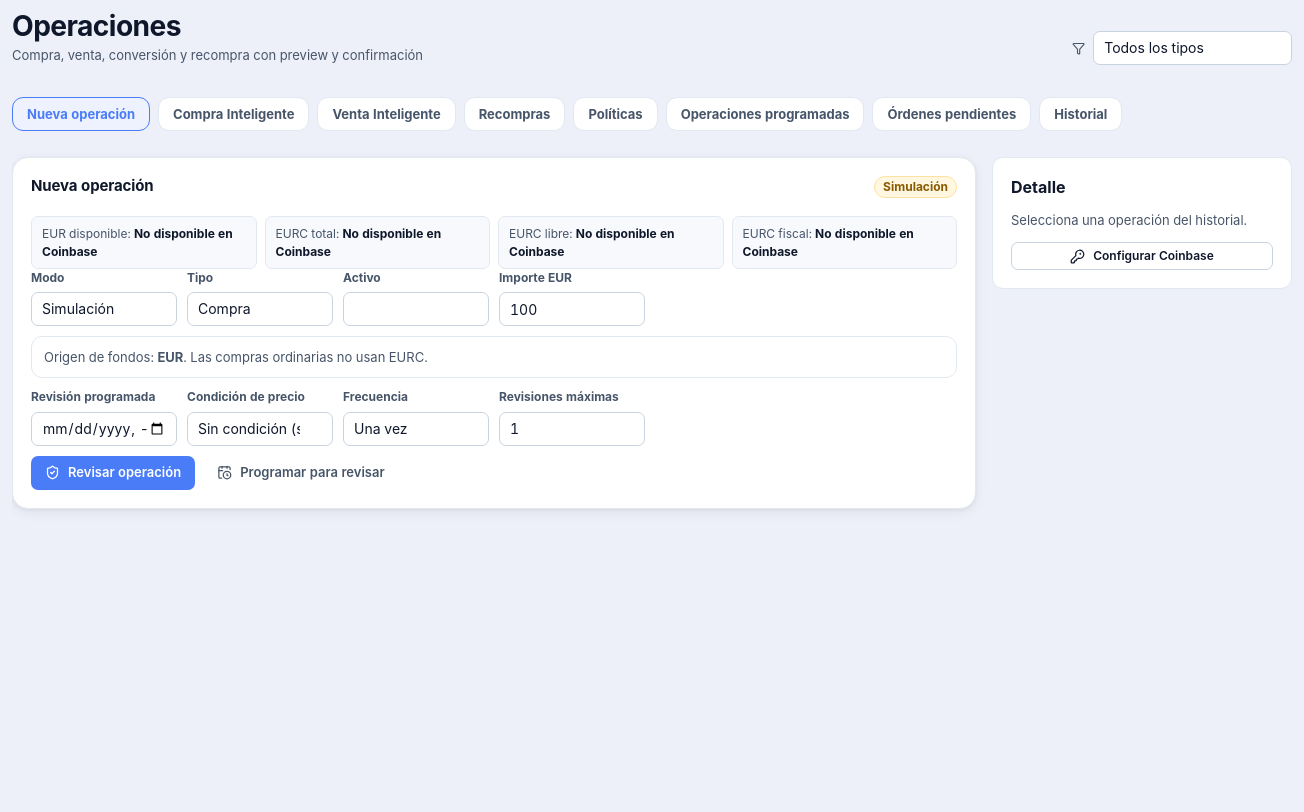
Test case: Operaciones UI › solo muestra operaciones sincronizadas desde Coinbase y no permite editarlas
Click the button "Historial" at (1081, 114), box 1039,97 -> 1122,131
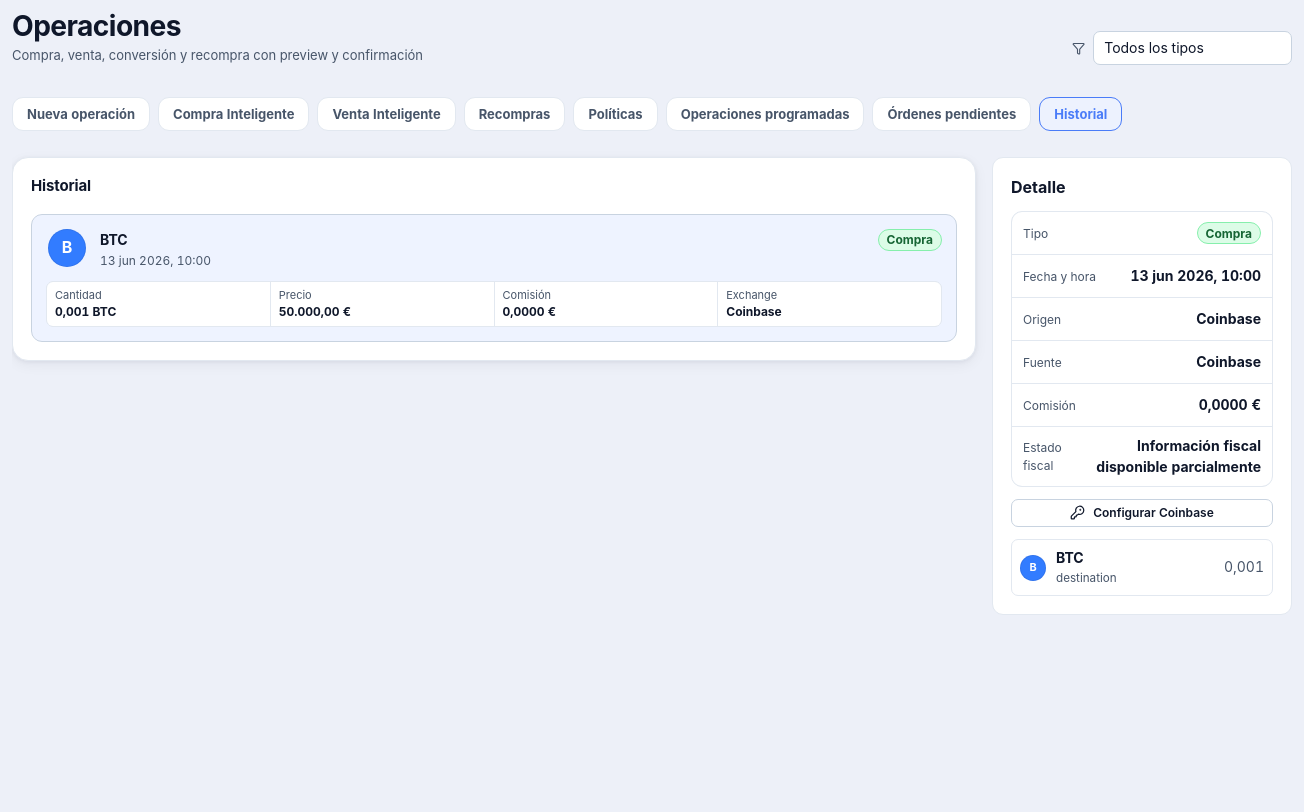
Result: the 1st text "BTC" is shown at 100,231 -> 128,248
